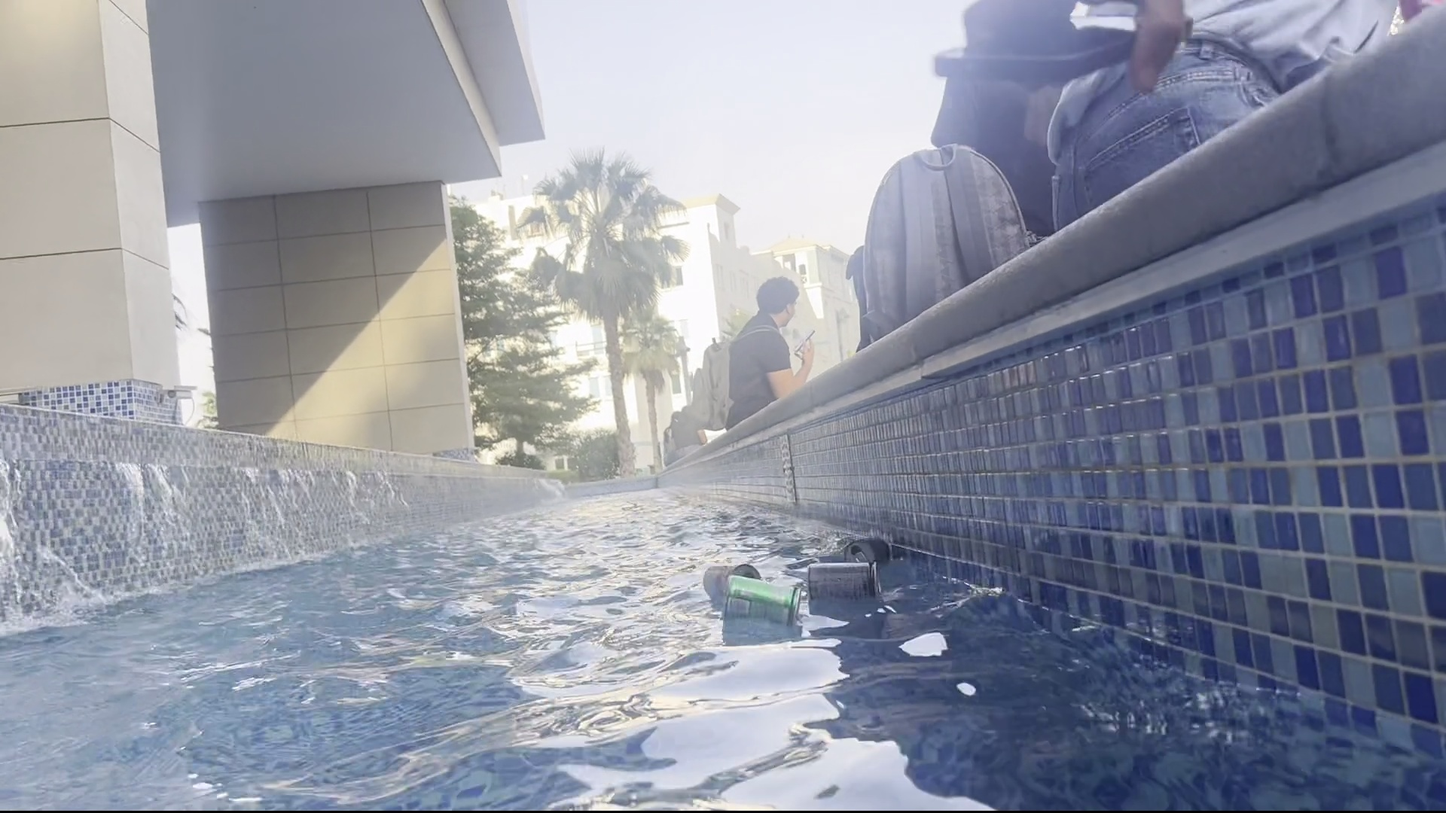debris: (718, 569, 805, 626), (801, 554, 889, 604), (700, 557, 764, 602), (842, 531, 895, 571)
